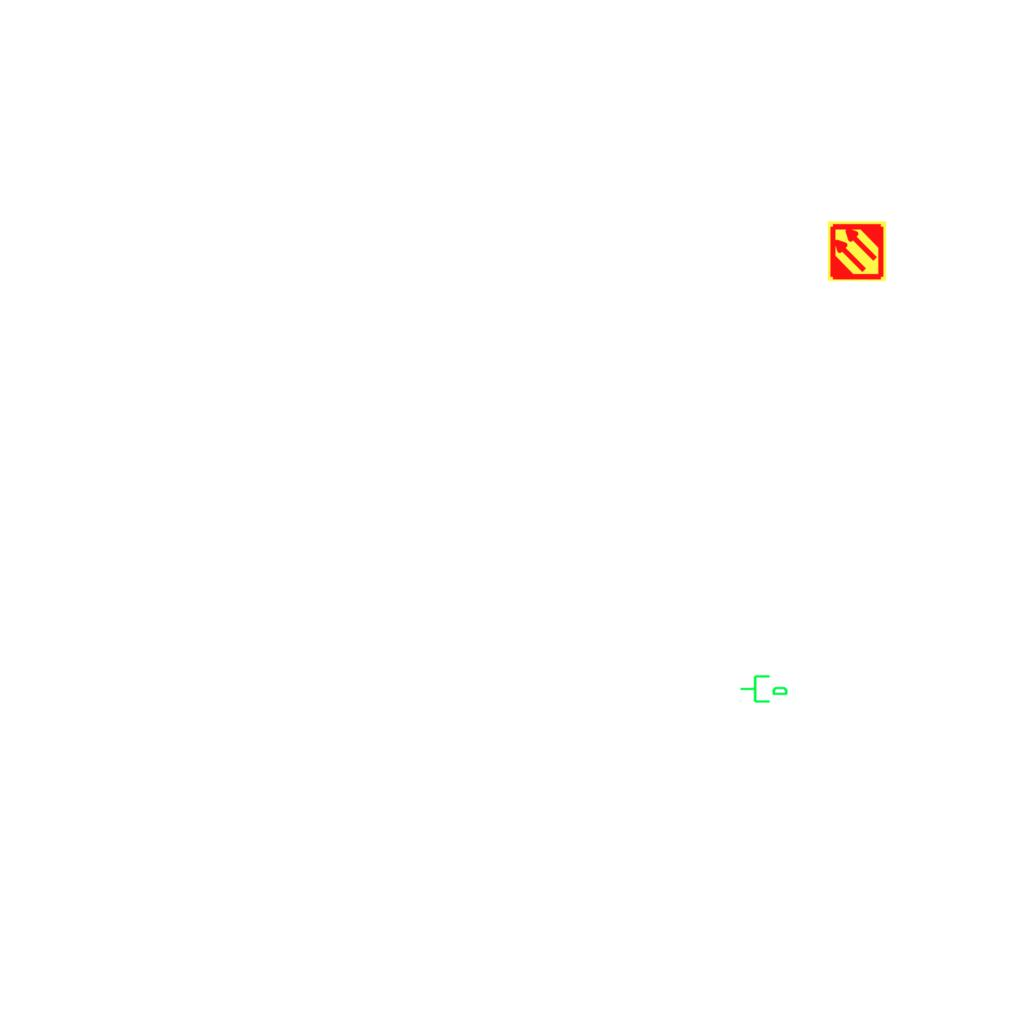ASR_Ansaugrauchmelder: (826, 220, 888, 282)
Datenanschluss_einfach: (739, 671, 789, 705)
